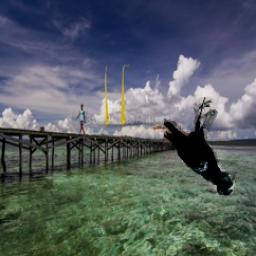Crow: (164, 97, 236, 196)
